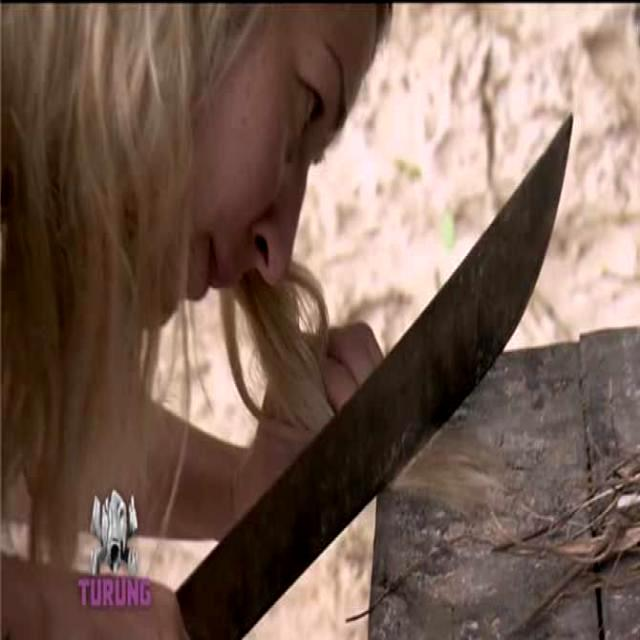long knife: (156, 56, 586, 638)
